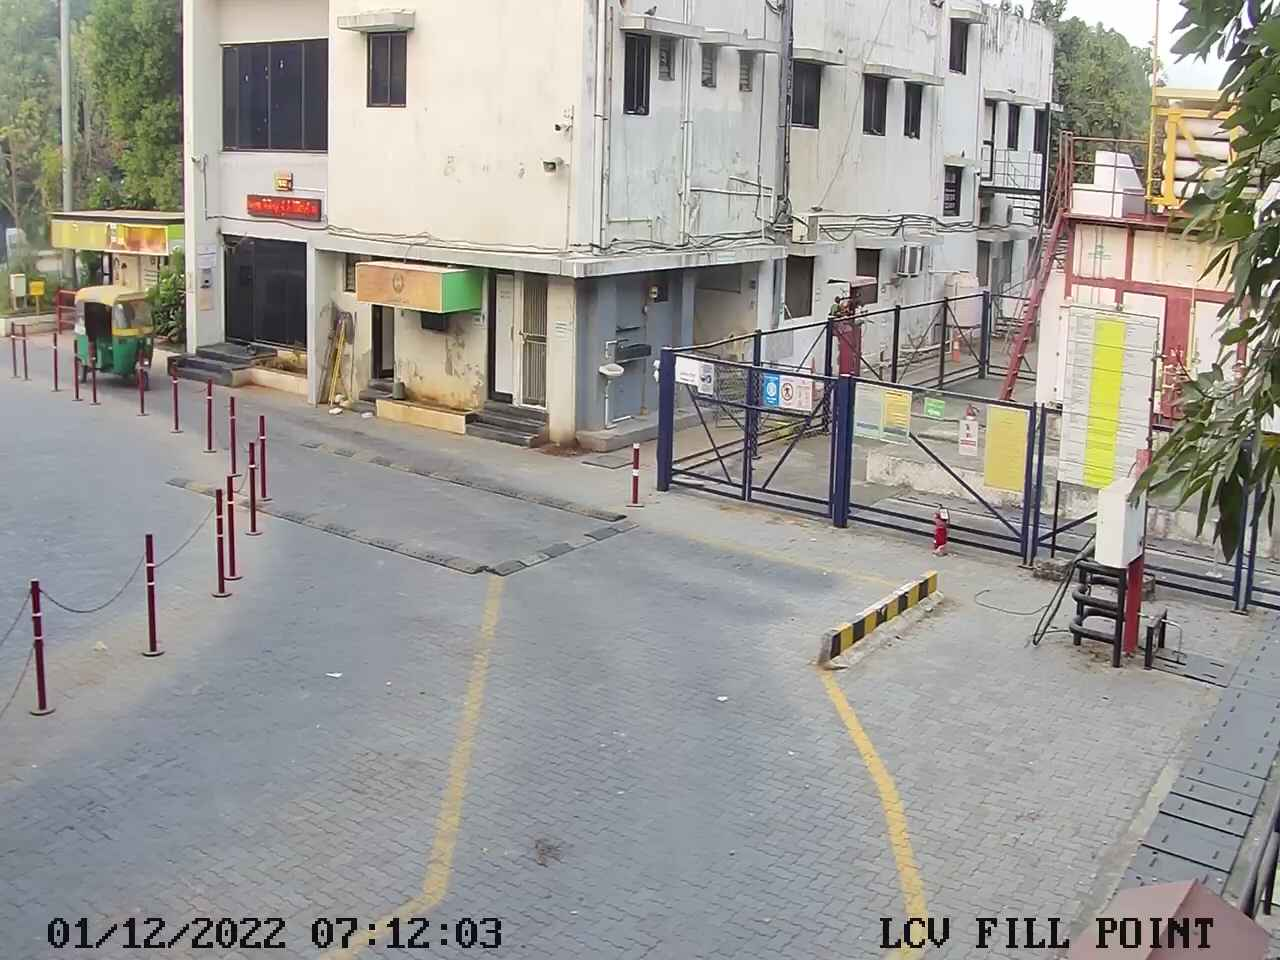Auto: (66, 273, 163, 397)
